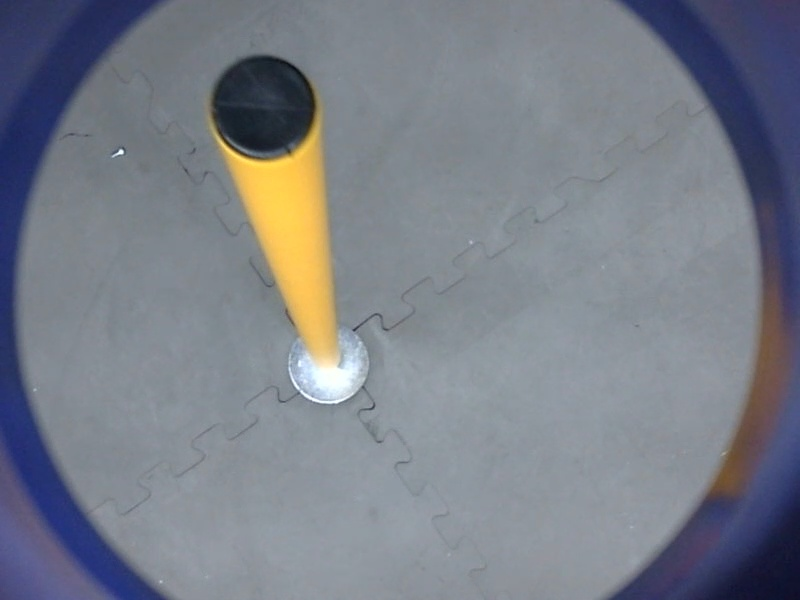tip: (198, 48, 323, 166)
